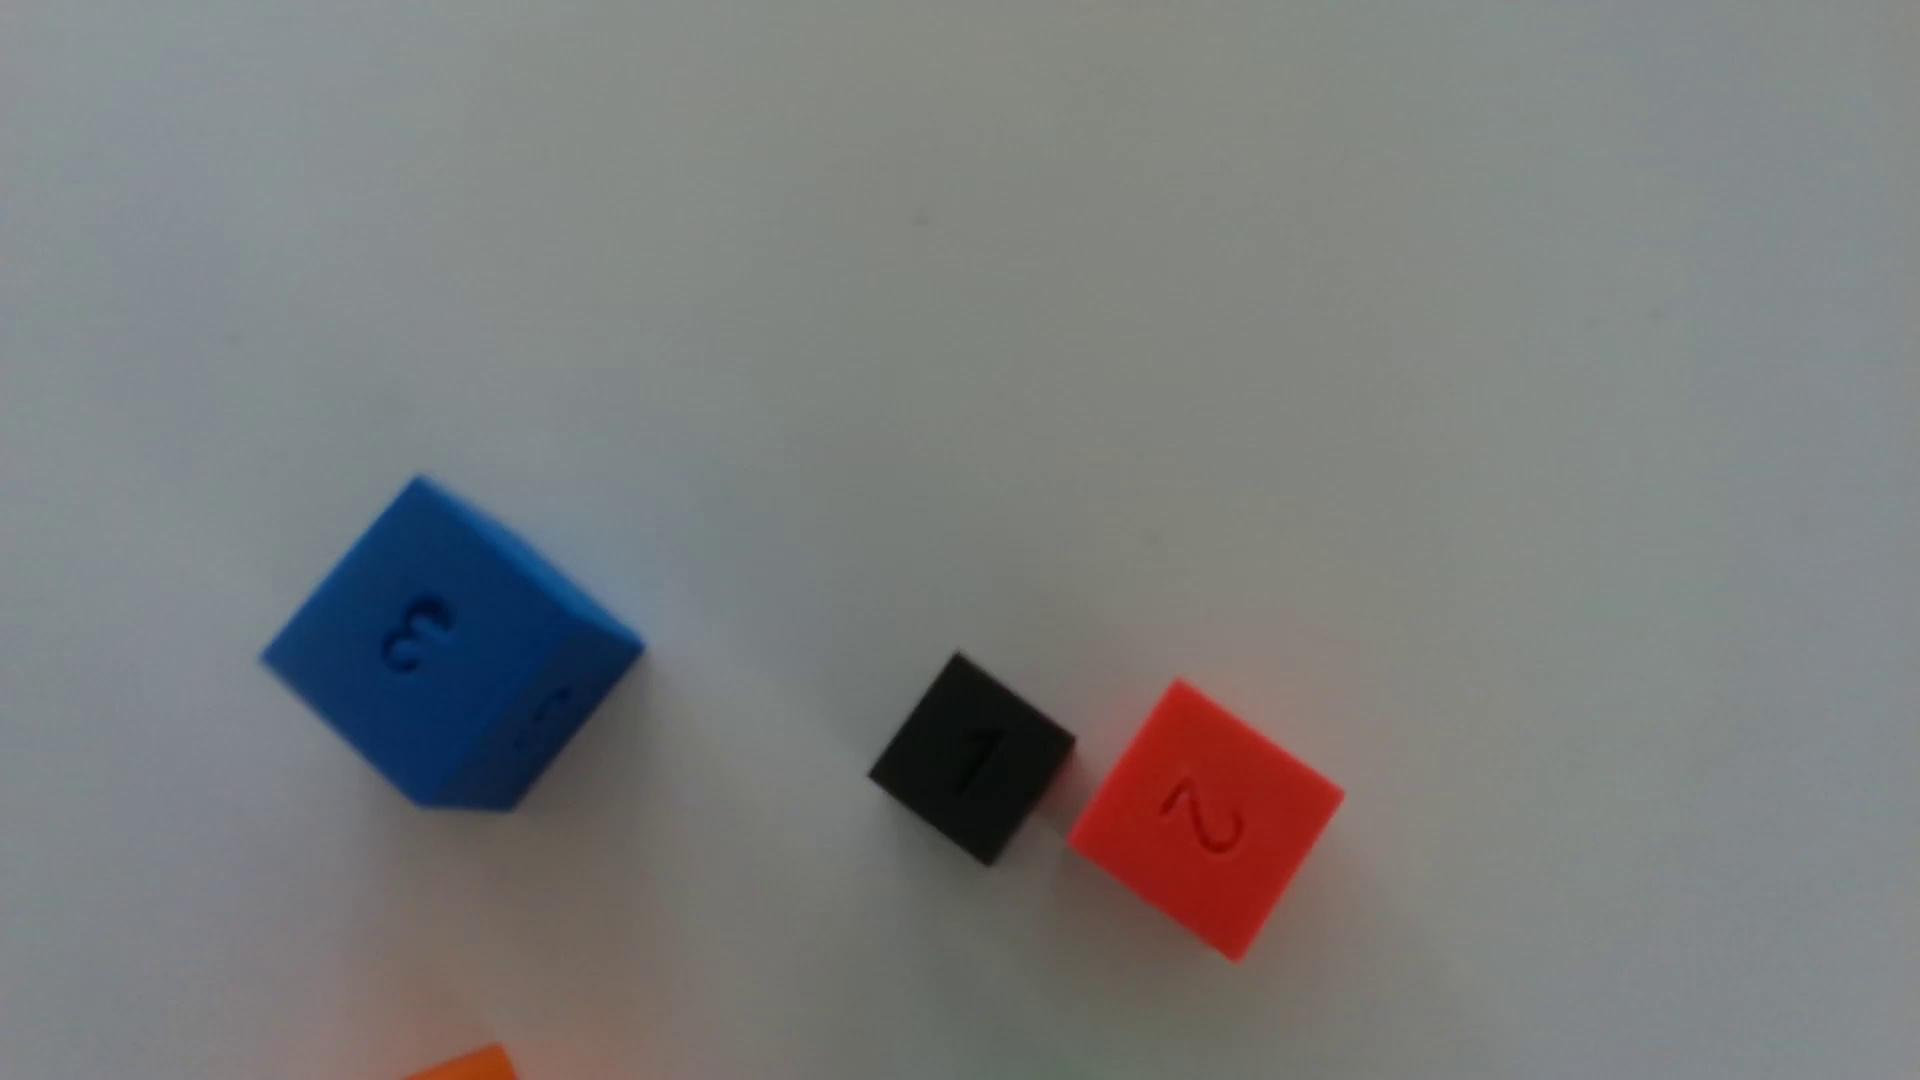black: (868, 654, 1075, 866)
blue: (262, 479, 644, 812)
orange: (407, 1046, 518, 1080)
red: (1069, 682, 1342, 961)
